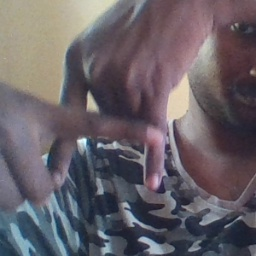H: (32, 55, 177, 200)
